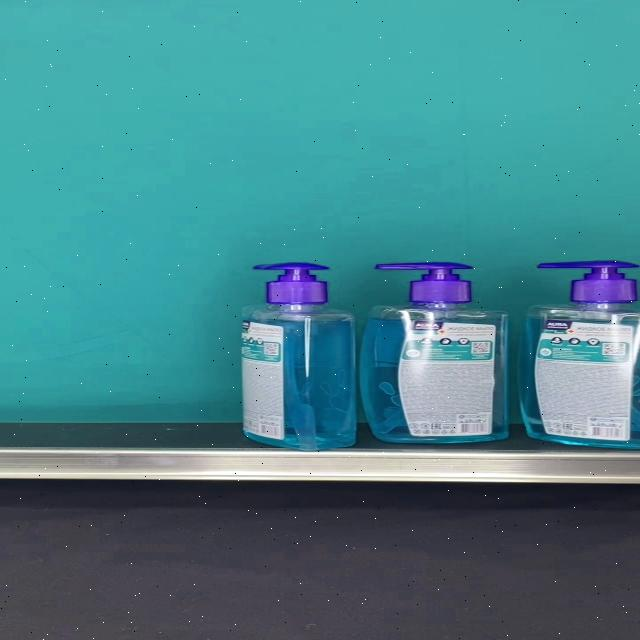Bottle: (360, 262, 509, 443), (518, 260, 640, 449), (241, 262, 356, 450)
Cap: (537, 260, 640, 303), (375, 262, 474, 304), (252, 262, 330, 304)
